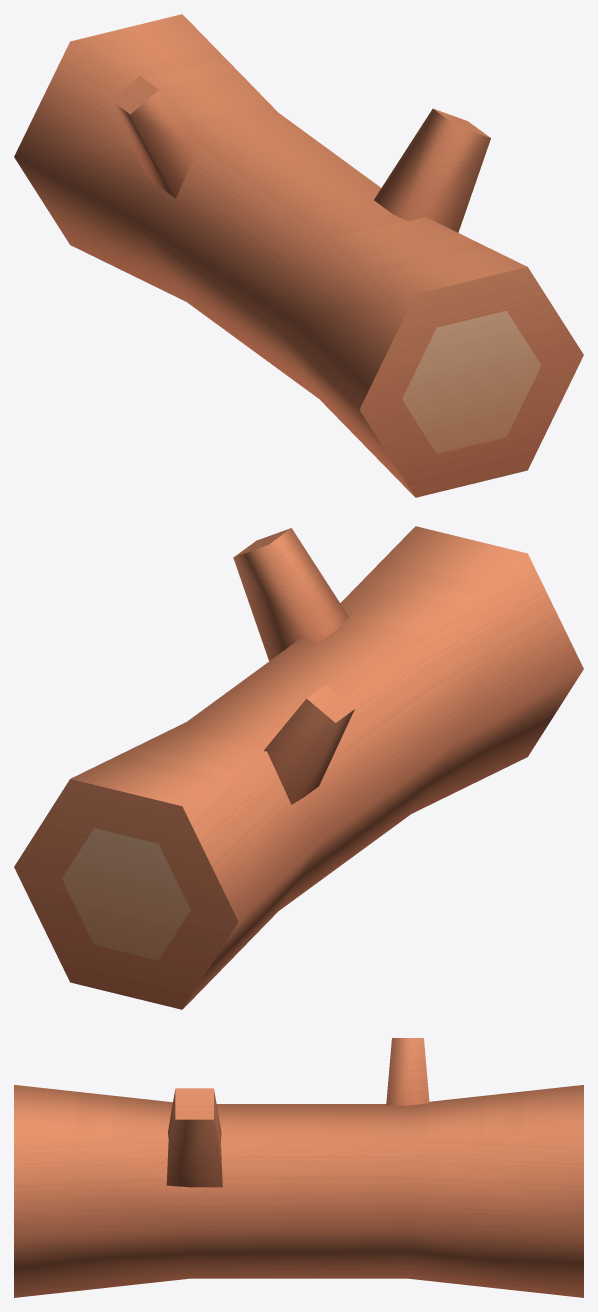
File: log.glb
3 renders of one model, top to bottom at view 1: azimuth 30°, elevation 25°; view 2: azimuth 150°, elevation 25°; view 3: azimuth 270°, elevation 25°, orthographic. The views are drawn at different scales.
Parts seen in each view (by area): view 1: tree-log-small; view 2: tree-log-small; view 3: tree-log-small.
Boxes of the visible parts, bbox=[...] form: tree-log-small: bbox=[14, 14, 583, 497]; tree-log-small: bbox=[14, 526, 583, 1009]; tree-log-small: bbox=[14, 1038, 583, 1297].
Size of the model in its own units: 0.5644 by 0.627 by 1.47.
1 material, 1 textured.
